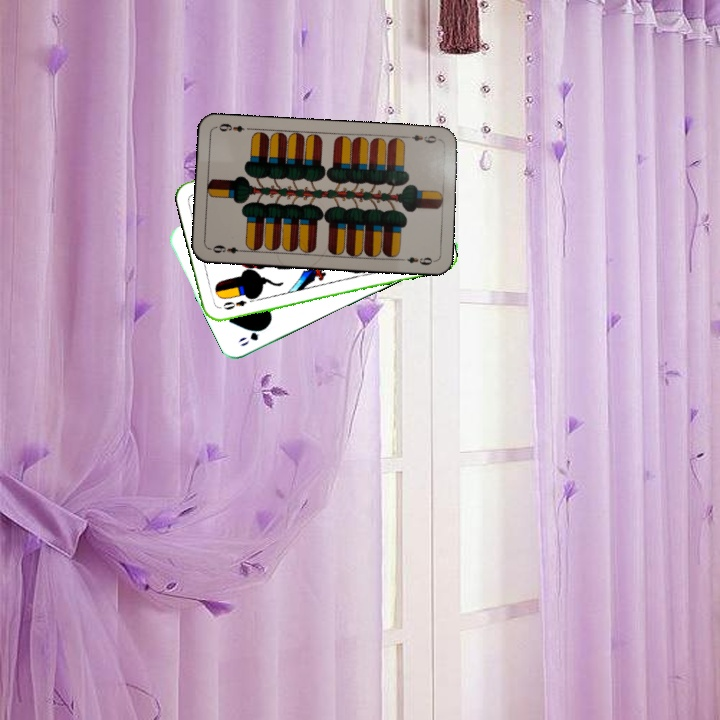E9: (207, 241, 247, 256), (402, 131, 442, 146)
EO: (219, 292, 257, 312)
GO: (234, 321, 271, 349)
